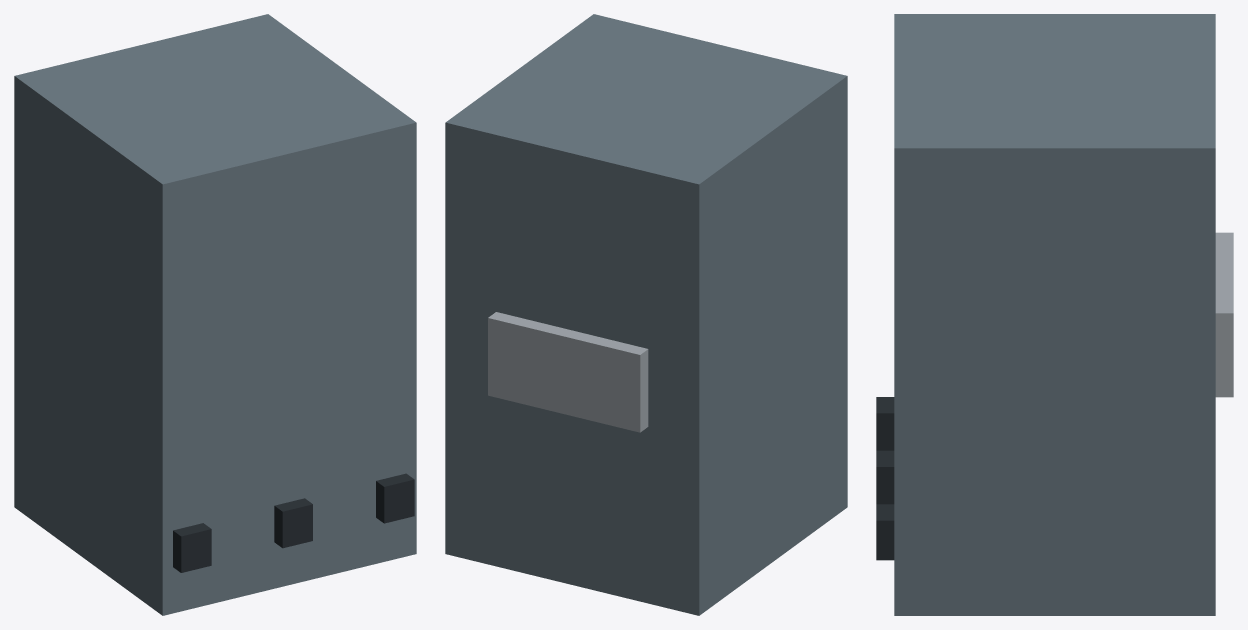
3 renders of one model, left to right at view 1: azimuth 30°, elevation 25°; view 2: azimuth 150°, elevation 25°; view 3: azimuth 270°, elevation 25°, orthographic. The views are drawn at different scales.
Parts seen in each view (by area): view 1: Body, Connector1, Connector2, Connector0; view 2: Body, MountClip; view 3: Body, MountClip, Connector2, Connector1, Connector0.
Boxes of the visible parts, x1=… form: Body: x1=14, y1=14, x2=416, y2=615; Connector1: x1=274, y1=498, x2=312, y2=548; Connector2: x1=376, y1=473, x2=414, y2=523; Connector0: x1=173, y1=523, x2=211, y2=572; Body: x1=445, y1=14, x2=847, y2=615; MountClip: x1=488, y1=312, x2=648, y2=432; Body: x1=894, y1=14, x2=1215, y2=615; MountClip: x1=1215, y1=232, x2=1233, y2=397; Connector2: x1=876, y1=504, x2=894, y2=560; Connector1: x1=876, y1=450, x2=894, y2=504; Connector0: x1=876, y1=397, x2=894, y2=450.
Bounding box in the file's own units: 0.08 × 0.13 × 0.09.
